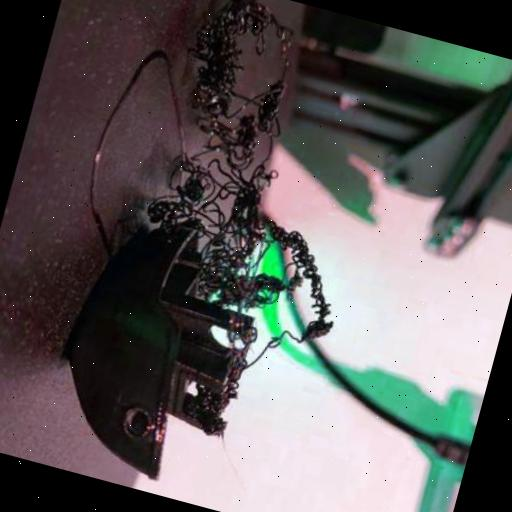spaghetti: (115, 0, 411, 373), (178, 346, 248, 440)
